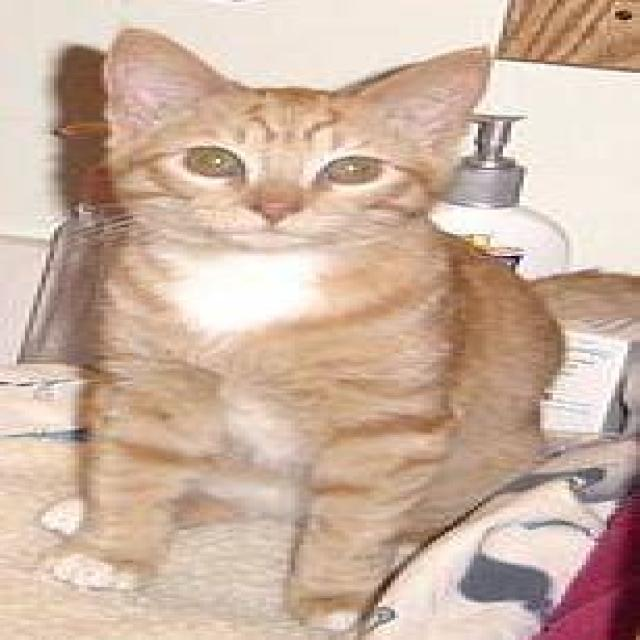Cat: (83, 28, 523, 260)
